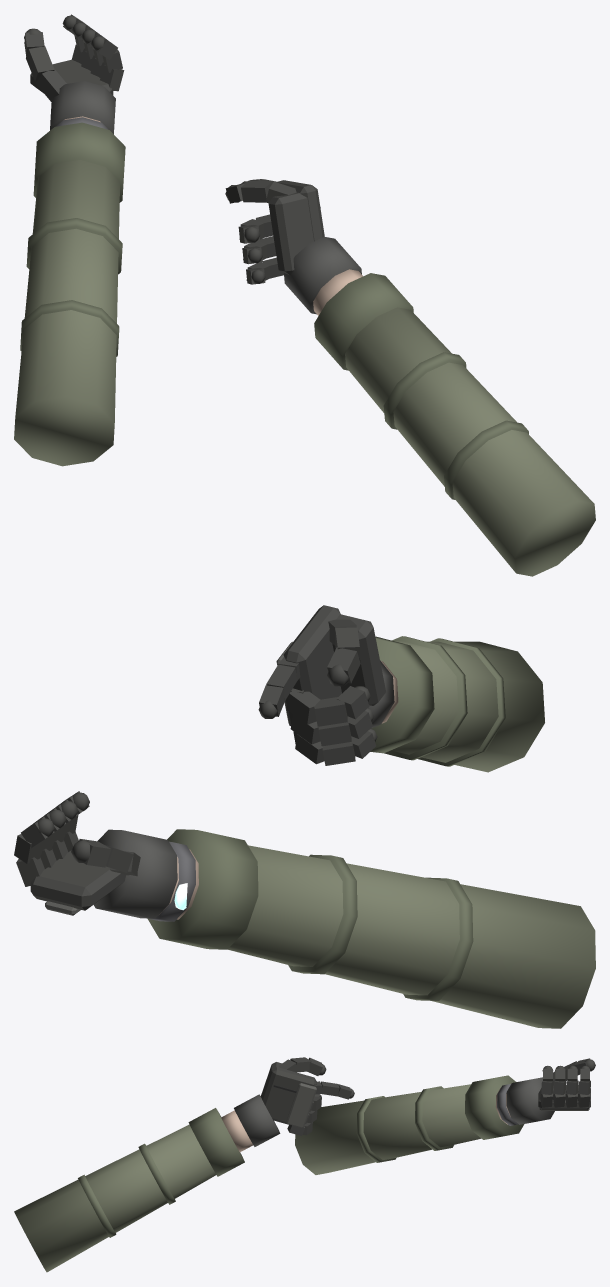
The model's file is hands_shotgun.glb.
The picture shows the model from 3 angles, top to bottom: view 1: azimuth 30°, elevation 25°; view 2: azimuth 150°, elevation 25°; view 3: azimuth 270°, elevation 25°; orthographic projection. The views are drawn at different scales.
Parts seen in each view (by area): view 1: Hands_shotgun, HandL; view 2: HandL, Hands_shotgun; view 3: Hands_shotgun, HandL.
Boxes of the visible parts, bbox=[...] form: Hands_shotgun: bbox=[225, 179, 595, 576]; HandL: bbox=[14, 14, 125, 466]; HandL: bbox=[14, 791, 595, 1028]; Hands_shotgun: bbox=[258, 605, 544, 772]; Hands_shotgun: bbox=[14, 1057, 354, 1272]; HandL: bbox=[295, 1058, 595, 1174].
Size of the model in its own units: 0.4433 by 0.3242 by 0.9369.
